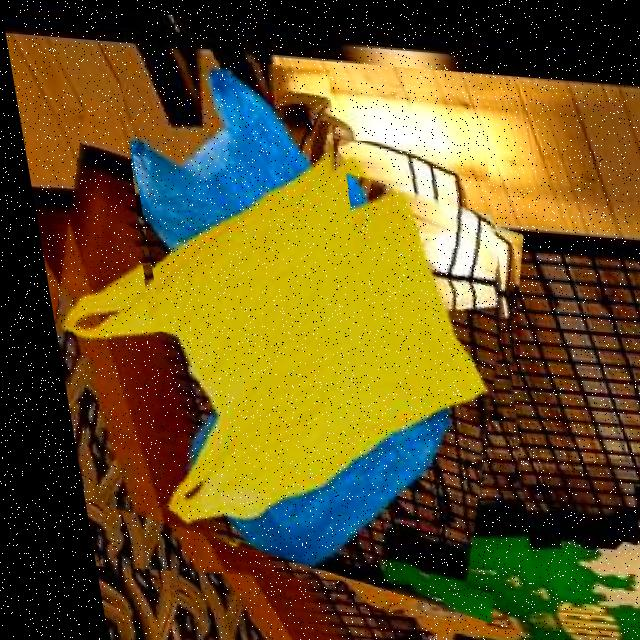plasticcover: (15, 112, 544, 596), (114, 49, 368, 346)
